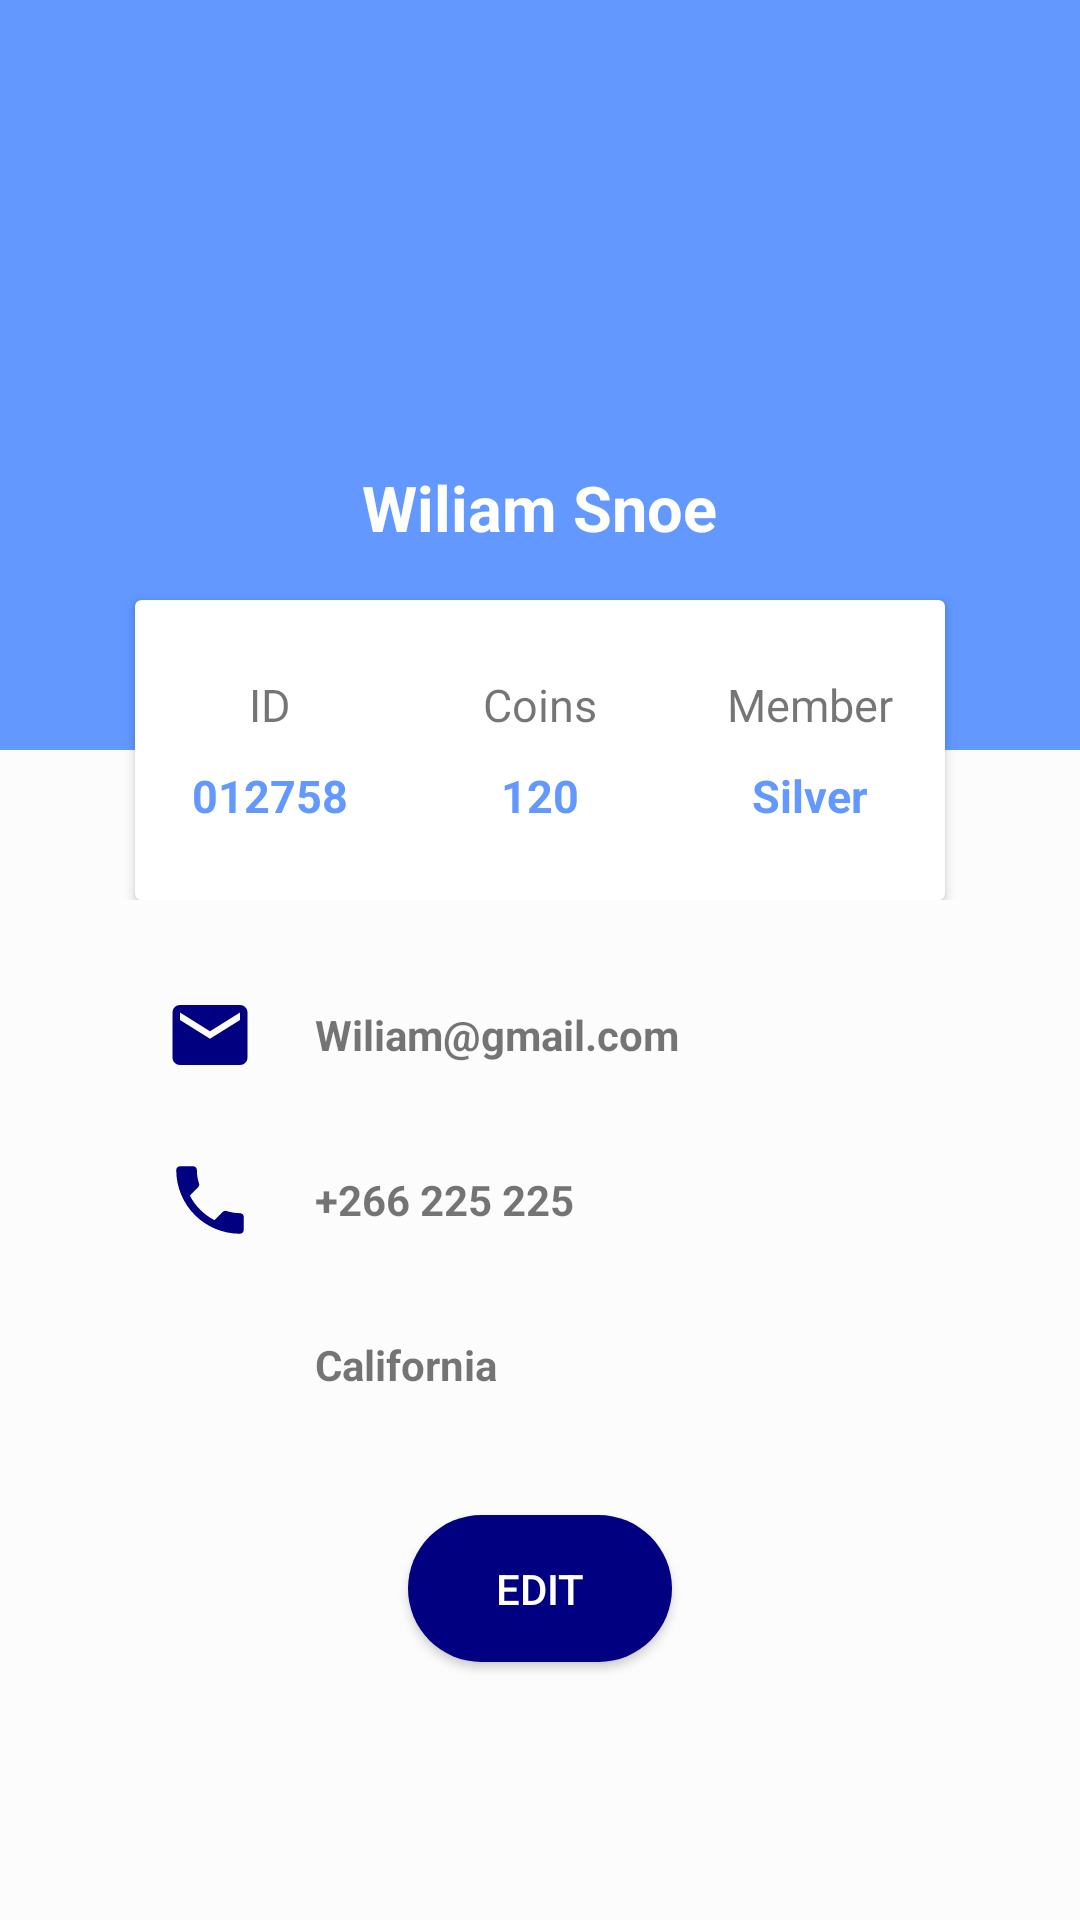

Locate icon controls on the screen. Image size 1080w x 1920h, boxes as (x1, y1, x2, y2).
email: (172, 1005, 248, 1065)
phone: (176, 1166, 244, 1234)
